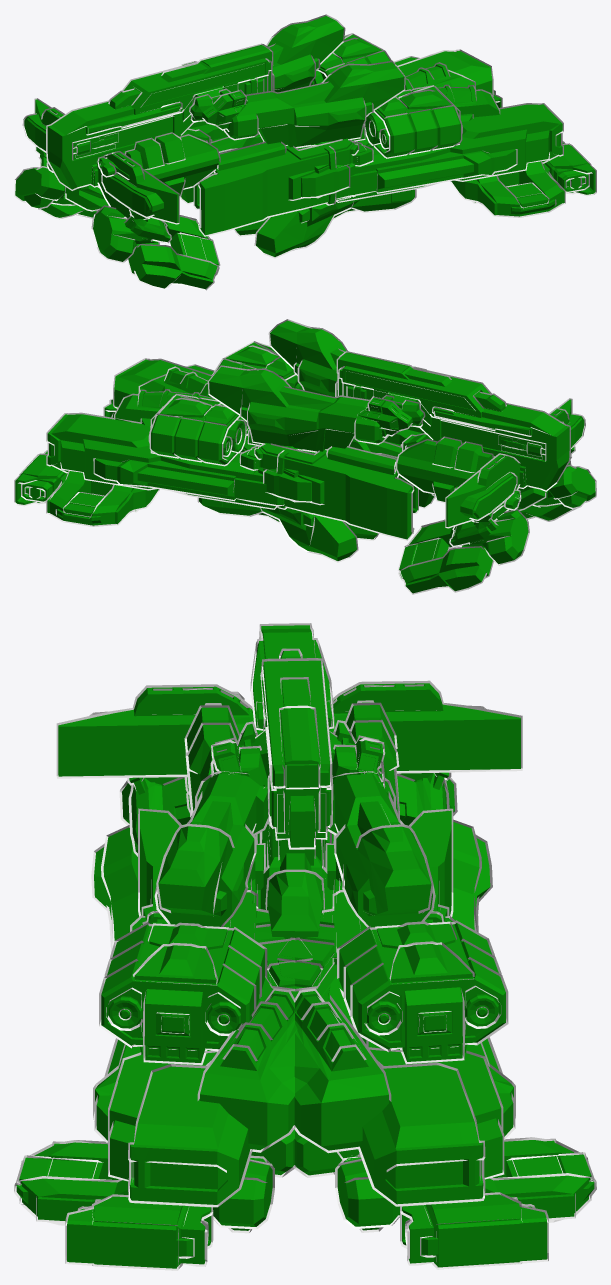
The model's file is ship15_green.glb.
The picture shows the model from 3 angles, top to bottom: view 1: azimuth 30°, elevation 25°; view 2: azimuth 150°, elevation 25°; view 3: azimuth 270°, elevation 25°; orthographic projection. The views are drawn at different scales.
Visible parts, largest first — view 1: ME_ship_IndexedFaceSet, ME_ship_IndexedFaceSet.001, ME_ship_IndexedFaceSet.002; view 2: ME_ship_IndexedFaceSet, ME_ship_IndexedFaceSet.001, ME_ship_IndexedFaceSet.002; view 3: ME_ship_IndexedFaceSet.002, ME_ship_IndexedFaceSet.001, ME_ship_IndexedFaceSet.
Part boxes in pixels (x1,y1,x2,y2): ME_ship_IndexedFaceSet: [14, 43, 274, 290]; ME_ship_IndexedFaceSet.001: [180, 14, 500, 258]; ME_ship_IndexedFaceSet.002: [311, 33, 596, 217]; ME_ship_IndexedFaceSet: [335, 351, 596, 594]; ME_ship_IndexedFaceSet.001: [114, 319, 434, 562]; ME_ship_IndexedFaceSet.002: [14, 341, 302, 526]; ME_ship_IndexedFaceSet.002: [14, 920, 596, 1270]; ME_ship_IndexedFaceSet.001: [130, 771, 455, 1177]; ME_ship_IndexedFaceSet: [56, 623, 522, 952].
Size of the model in its own units: 727 by 282 by 431.
